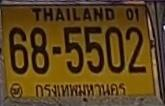0: (104, 26, 125, 72)
2: (126, 26, 145, 72), (126, 26, 144, 72)
5: (63, 26, 83, 73), (84, 26, 103, 72)
6: (8, 27, 28, 73)
8: (30, 27, 48, 73)
BKK: (34, 82, 129, 103)
